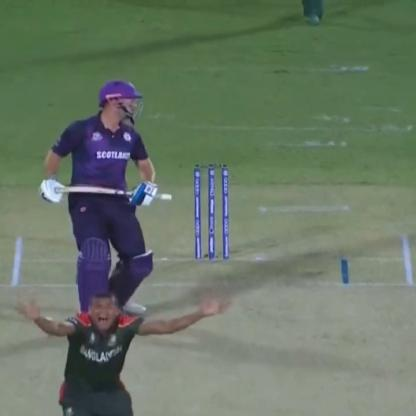bat: (43, 176, 174, 204)
pitch: (3, 233, 412, 416)
